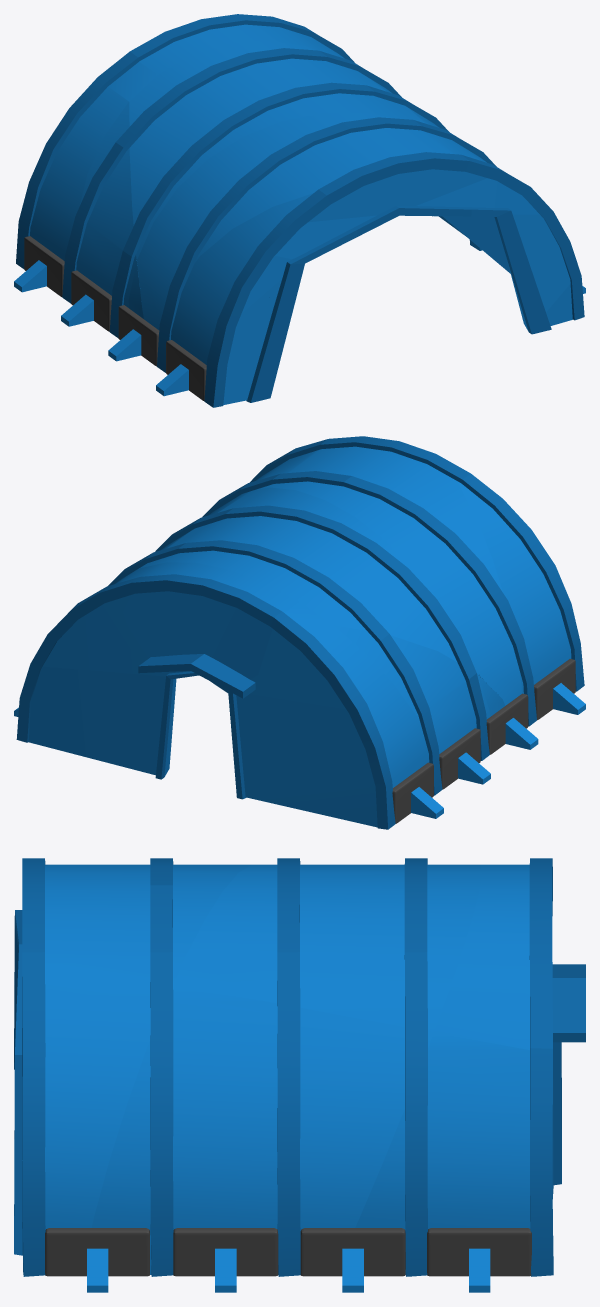
The model's file is Base 1 Cut.fbx.
3 views of the same model, one above another, from view 1: azimuth 30°, elevation 25°; view 2: azimuth 150°, elevation 25°; view 3: azimuth 270°, elevation 25° (orthographic). The views are drawn at different scales.
Visible parts, largest first — view 1: Cut_14, Cut_11, Cut_6, Cut_1, Cut_8, Cut_12, Cut_13, Cut_10, Cut_3; view 2: Cut_6, Cut_12, Cut_14, Cut_11, Cut_1, Cut_9, Cut_13, Cut_2, Cut_3, Cut_10, Cut_8; view 3: Cut_7, Cut_9, Cut_11, Cut_8, Cut_14, Cut_12, Cut_10, Cut_5, Cut_4, Cut_2, Cut_1.
Boxes of the visible parts, box(x1,y1,x2,y2) form: Cut_14: box(136, 113, 472, 372); Cut_11: box(116, 40, 425, 259); Cut_6: box(14, 51, 143, 338); Cut_1: box(156, 193, 357, 404); Cut_8: box(440, 136, 584, 334); Cut_12: box(129, 14, 343, 100); Cut_13: box(204, 189, 330, 407); Cut_10: box(342, 117, 510, 273); Cut_3: box(108, 305, 159, 366); Cut_6: box(232, 611, 505, 829); Cut_12: box(71, 562, 332, 779); Cut_14: box(255, 436, 536, 726); Cut_11: box(130, 487, 476, 679); Cut_1: box(457, 481, 585, 720); Cut_9: box(14, 553, 152, 756); Cut_13: box(461, 474, 584, 691); Cut_2: box(138, 654, 255, 698); Cut_3: box(486, 693, 538, 754); Cut_10: box(202, 471, 351, 517); Cut_8: box(250, 439, 327, 482); Cut_7: box(91, 987, 433, 1292); Cut_9: box(355, 997, 553, 1292); Cut_11: box(173, 858, 481, 1032); Cut_8: box(14, 952, 150, 1276); Cut_14: box(16, 858, 251, 1016); Cut_12: box(434, 858, 561, 1198); Cut_10: box(150, 885, 173, 1276); Cut_5: box(300, 1228, 405, 1292); Cut_4: box(45, 1228, 149, 1292); Cut_2: box(552, 964, 585, 1042); Cut_1: box(14, 864, 49, 1069).
Size of the model in its own units: 318 by 146 by 278.
Materials: 1 (1 with a texture image).
